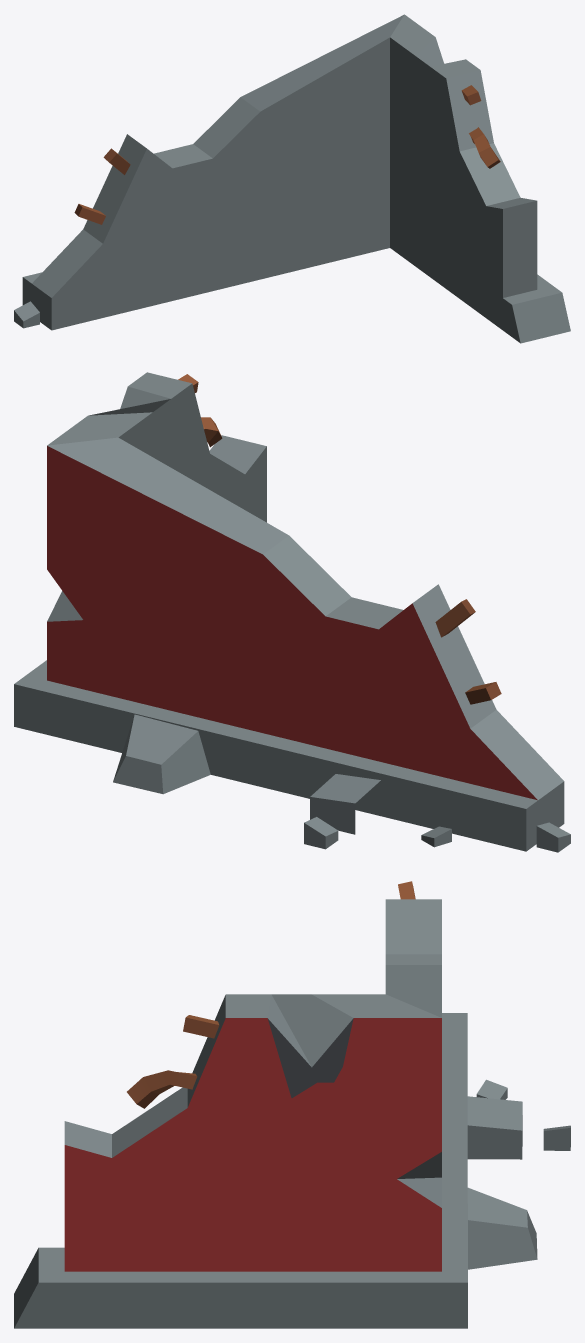
Rendered from BuildingRuin_02.fbx.
3 renders of one model, top to bottom at view 1: azimuth 30°, elevation 25°; view 2: azimuth 150°, elevation 25°; view 3: azimuth 270°, elevation 25°, orthographic. The views are drawn at different scales.
Visible parts, largest first — view 1: BuildingRuin_02; view 2: BuildingRuin_02; view 3: BuildingRuin_02.
Part boxes in pixels (x1,y1,x2,y2): BuildingRuin_02: [14, 14, 570, 343]; BuildingRuin_02: [14, 372, 570, 852]; BuildingRuin_02: [14, 881, 570, 1328].
Bounding box in the file's own units: 3.93 × 3.28 × 1.97.
